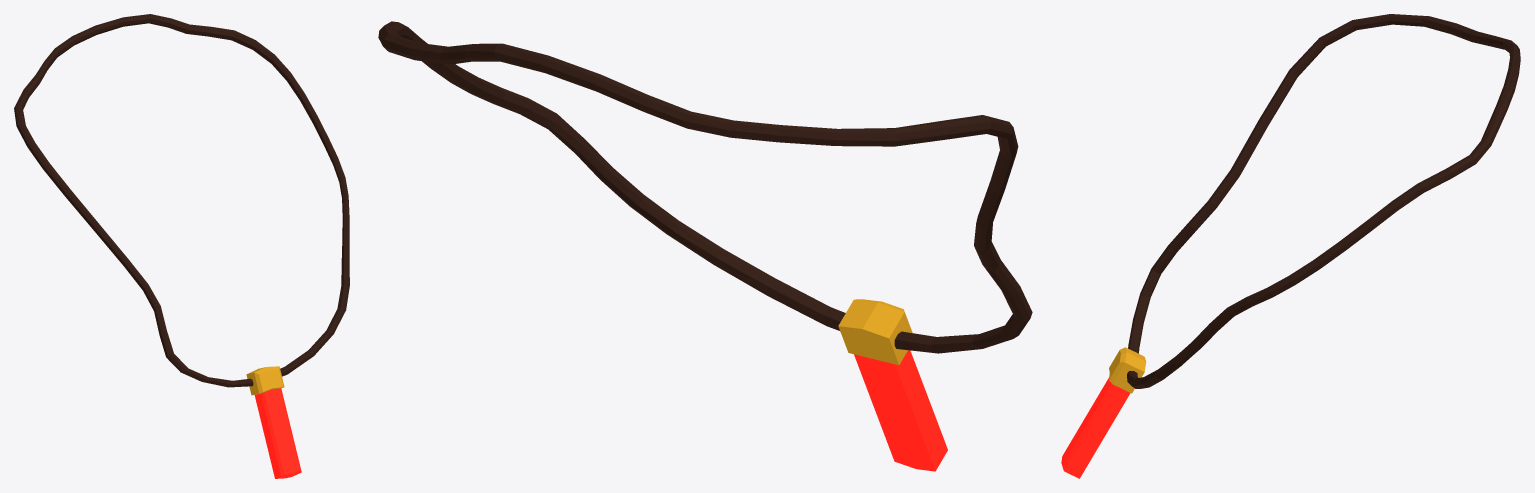
The model's file is necklace2.glb.
The picture shows the model from 3 angles, left to right: view 1: azimuth 30°, elevation 25°; view 2: azimuth 150°, elevation 25°; view 3: azimuth 270°, elevation 25°; orthographic projection. The views are drawn at different scales.
Parts seen in each view (by area): view 1: Necklace2; view 2: Necklace2; view 3: Necklace2.
Part boxes in pixels (x1,y1,x2,y2): Necklace2: (14,14,349,478); Necklace2: (378,21,1032,471); Necklace2: (1061,14,1520,478).
Bounding box in the file's own units: 91 × 100 × 101.
